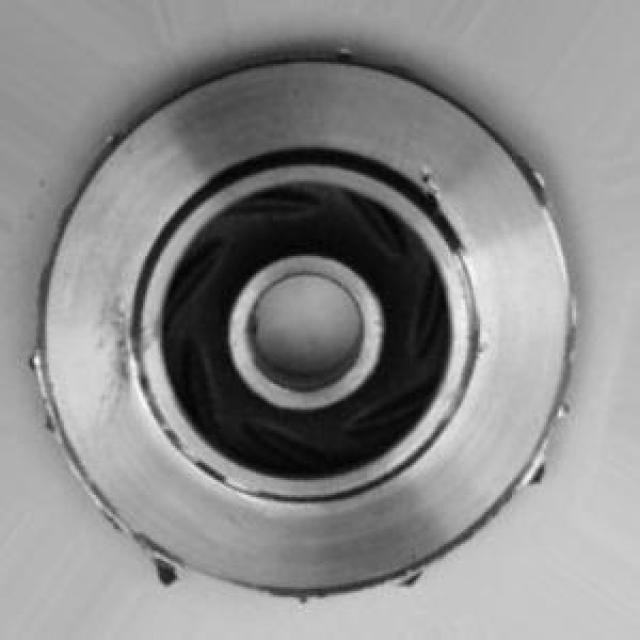Defect: (409, 159, 454, 224), (38, 359, 62, 456)
